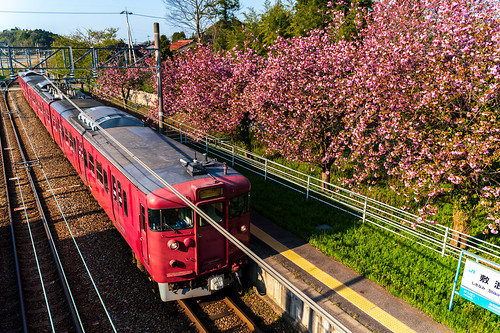train: (1, 68, 248, 290)
train track: (1, 96, 144, 330)
vegetation: (166, 1, 497, 237)
